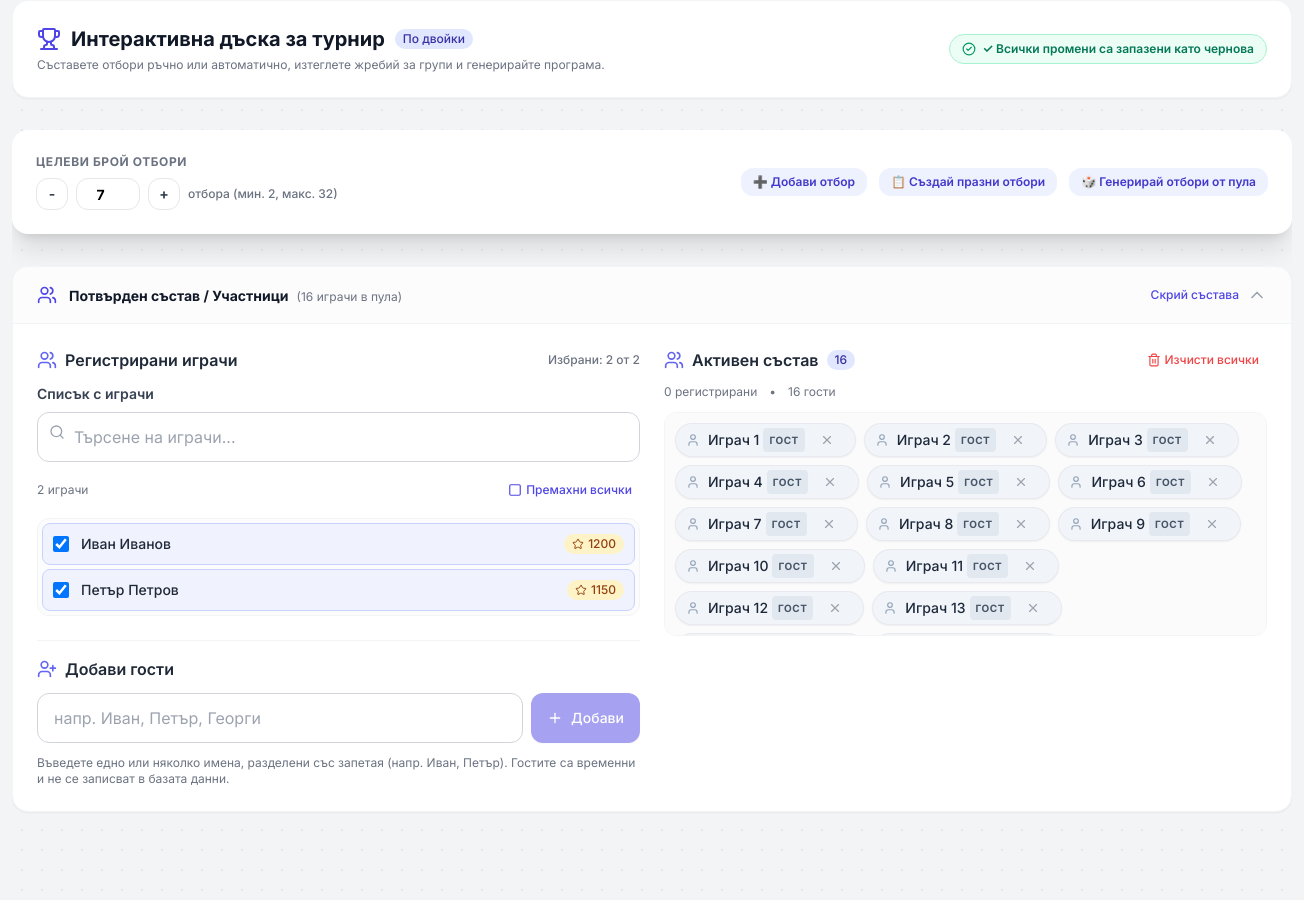
it: TournamentInteractiveBoard Component › Universal Mathematical Validation & Auto-Adjustment › P = 16, T = 7 (Case 1): adapts target teams to 8 teams, generates 8 full teams, and shows banner
What coordinates should you click on to do the following:
click the button "🎲 Генерирай отбори от пула"
I would click on:
 (1169, 182)
Its box is x1=1069 y1=168 x2=1268 y2=196.
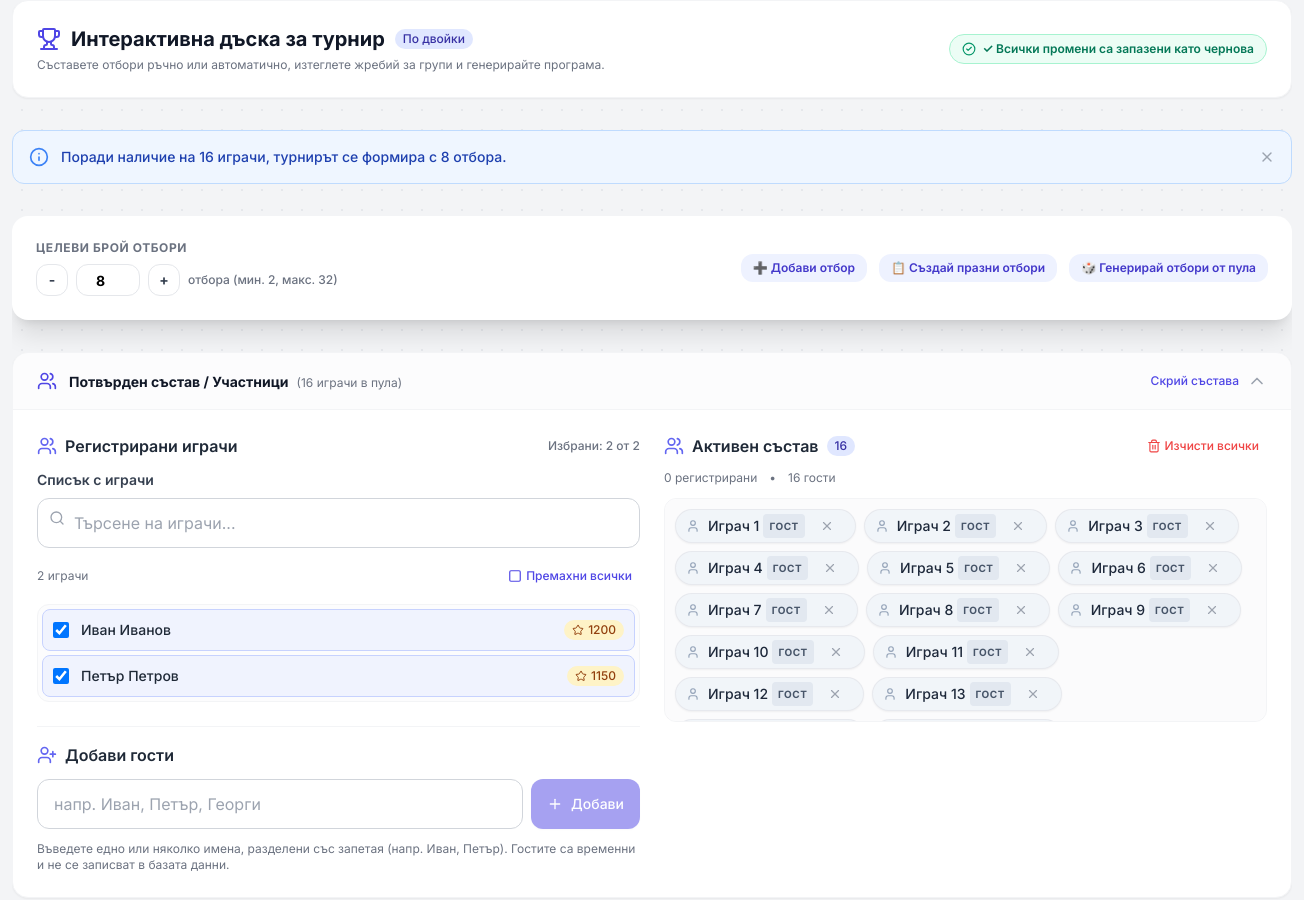
Result: the number field labelled "Целеви брой отбори" holds "8" at x1=76 y1=264 x2=140 y2=296
Result: the text "Поради наличие на 16 играчи, турнирът се формира с 8 отбора." is shown at x1=61 y1=148 x2=506 y2=165
